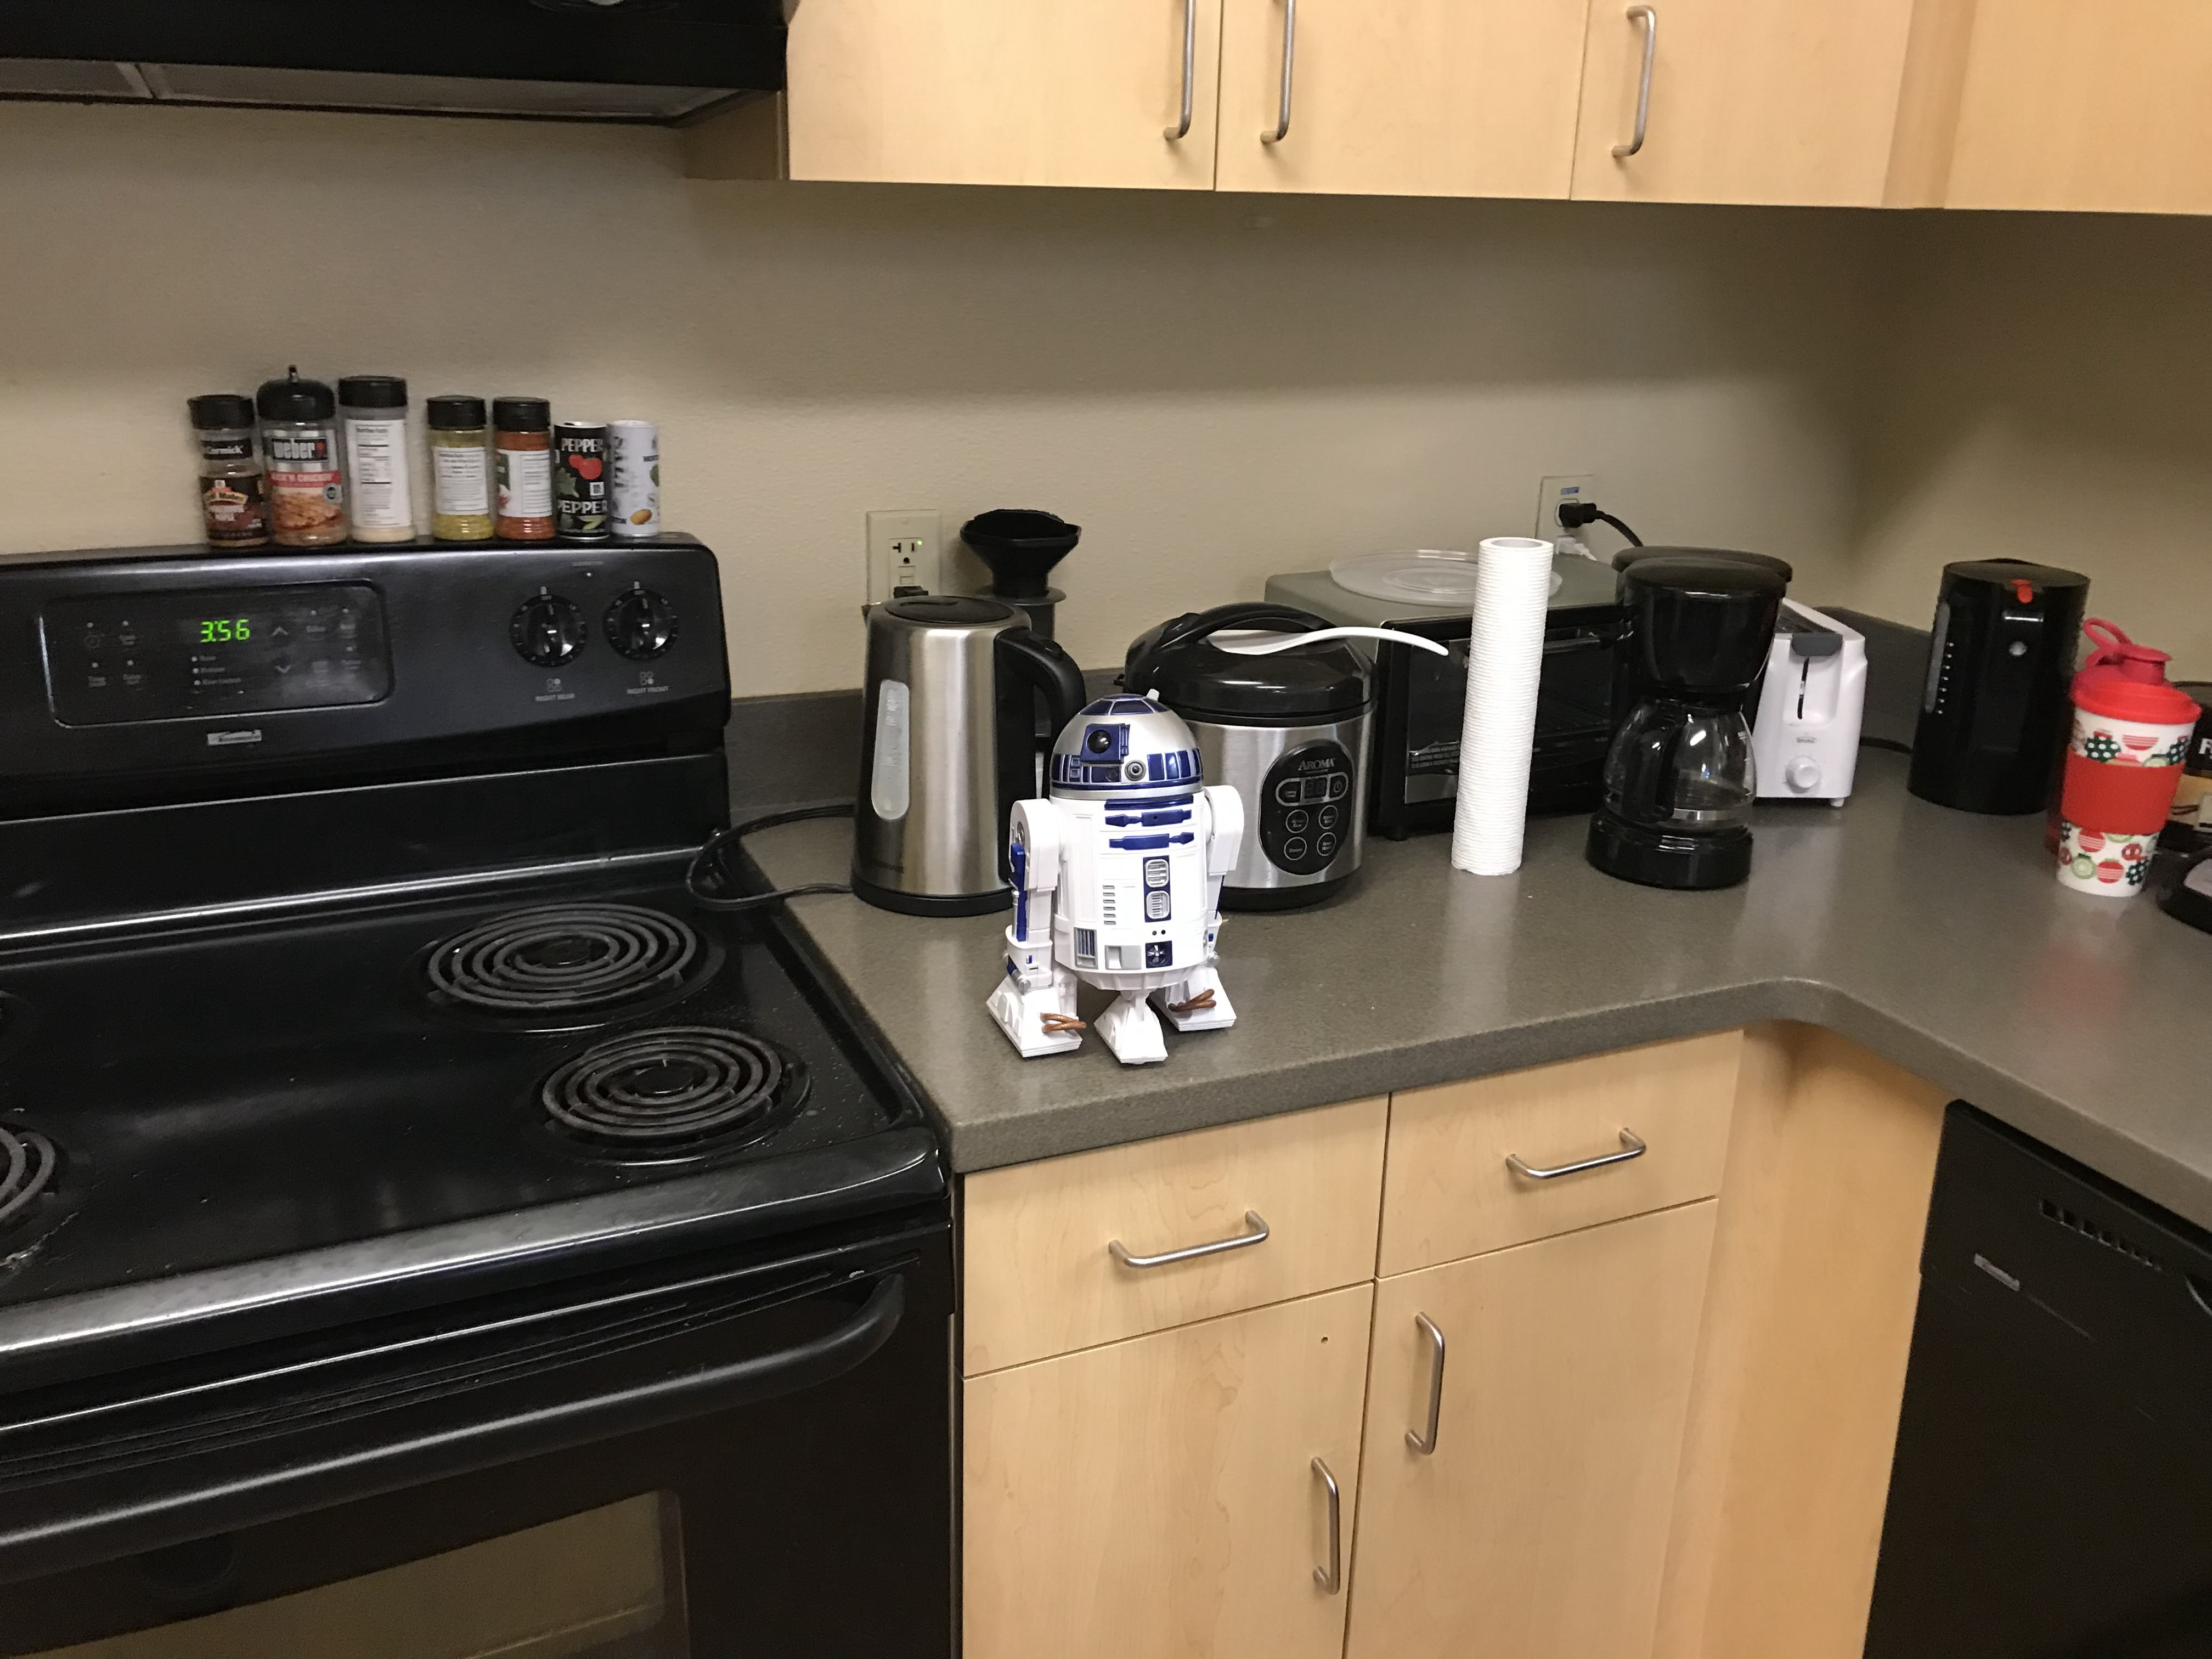r2d2: (988, 688, 1245, 1068)
